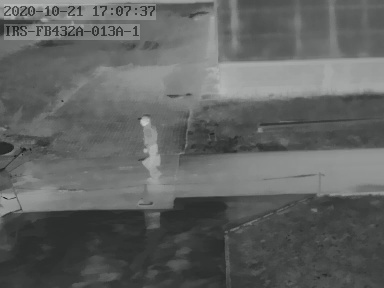person: (139, 113, 162, 181)
